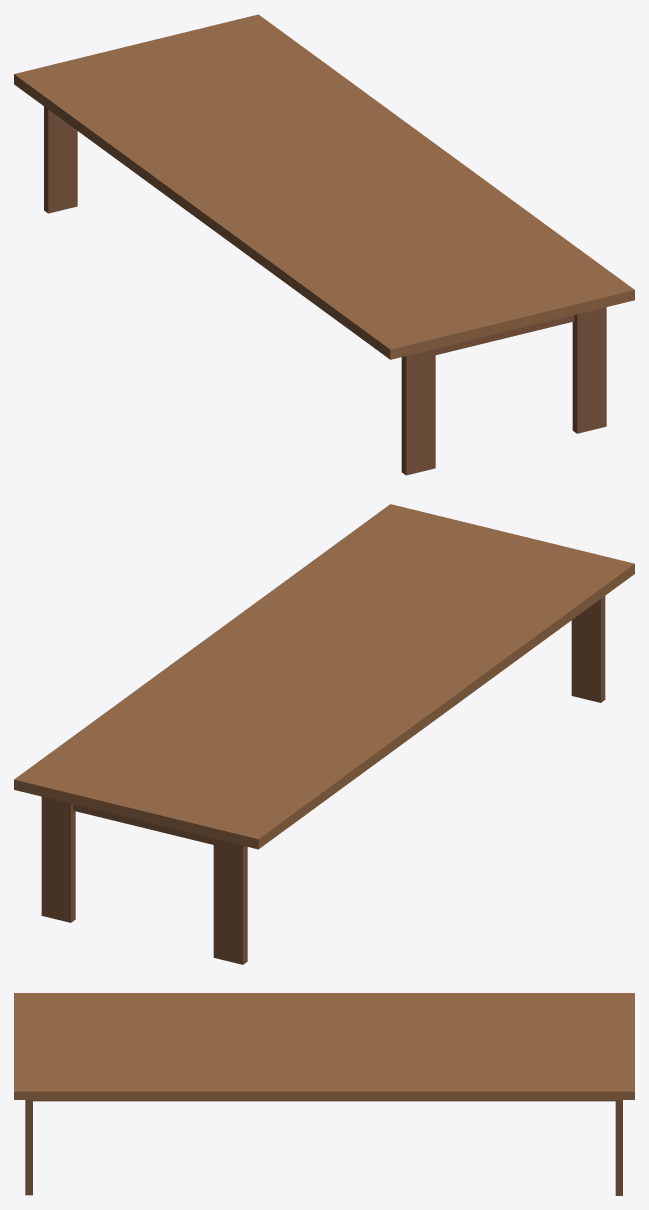
Rendered from SM_Table_2.fbx.
3 renders of one model, top to bottom at view 1: azimuth 30°, elevation 25°; view 2: azimuth 150°, elevation 25°; view 3: azimuth 270°, elevation 25°, orthographic. The views are drawn at different scales.
Parts seen in each view (by area): view 1: Table_Leg4; view 2: Table_Leg4; view 3: Table_Leg4.
Boxes of the visible parts, left/top/right/bottom form: Table_Leg4: left=14, top=14, right=634, bottom=475; Table_Leg4: left=14, top=504, right=634, bottom=964; Table_Leg4: left=14, top=993, right=634, bottom=1195.
Size of the model in its own units: 150 by 80 by 400.
